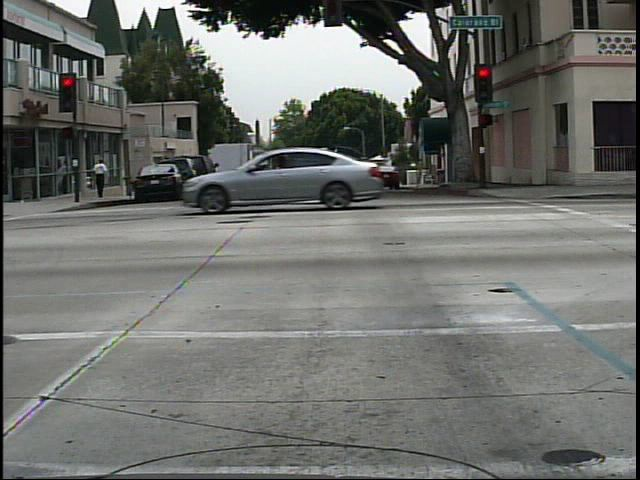person: (465, 141, 494, 195), (86, 151, 114, 203)
